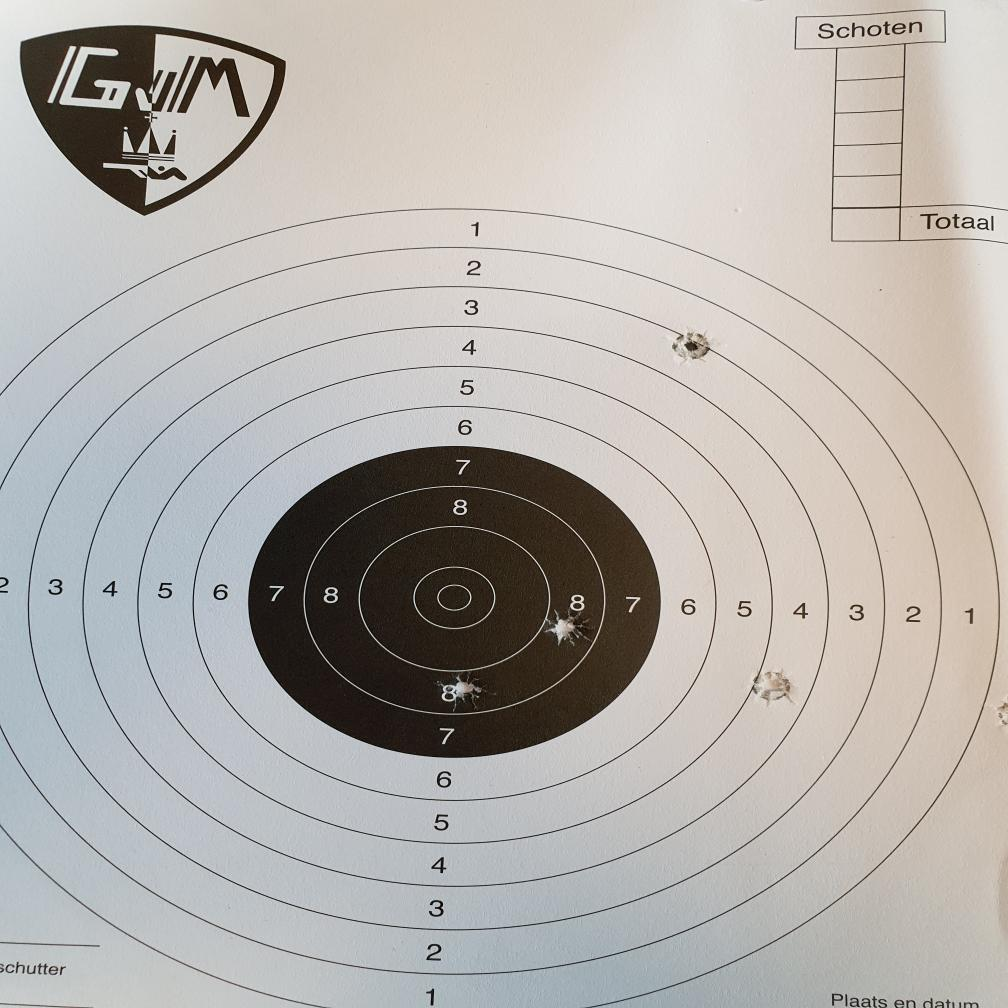0: (990, 693, 1008, 736)
3: (670, 327, 718, 366)
5: (752, 666, 797, 704)
8: (541, 606, 592, 647), (440, 671, 486, 707)
Target: (0, 208, 1000, 1007)
black_contour: (240, 446, 661, 759)
